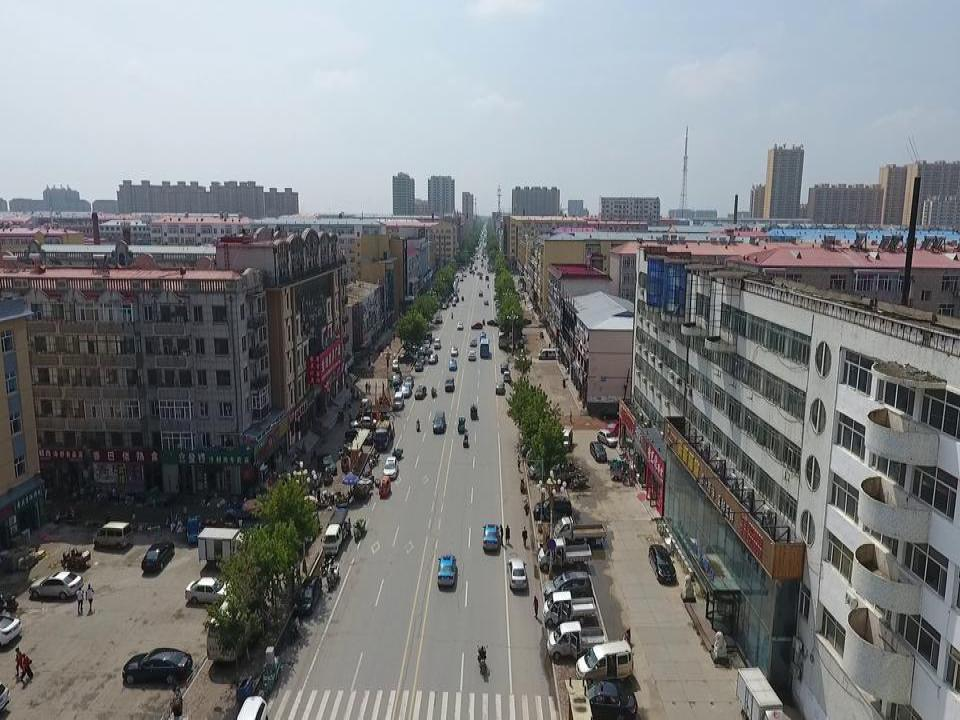car: (123, 648, 192, 683), (578, 681, 638, 720), (538, 569, 593, 599), (29, 570, 81, 594), (185, 577, 235, 600), (648, 544, 677, 583), (531, 494, 575, 519), (142, 540, 176, 571), (296, 576, 320, 616), (508, 557, 528, 590), (0, 613, 21, 643), (344, 427, 375, 445), (437, 555, 455, 585), (223, 503, 258, 518), (350, 415, 377, 430), (598, 428, 618, 448), (589, 440, 607, 461), (319, 453, 336, 475), (484, 523, 498, 549), (357, 408, 381, 420), (384, 457, 397, 479), (433, 411, 445, 430), (606, 419, 620, 433), (414, 384, 425, 400), (403, 373, 414, 388), (444, 376, 453, 392), (428, 350, 437, 366), (392, 372, 401, 387), (402, 383, 411, 397), (517, 318, 532, 326), (415, 352, 424, 365), (471, 320, 483, 329), (495, 382, 504, 394), (502, 371, 512, 381), (450, 345, 459, 356), (492, 307, 503, 316), (449, 360, 457, 371), (414, 360, 422, 371), (420, 345, 428, 356), (469, 337, 477, 347), (467, 351, 475, 361), (501, 363, 509, 372), (421, 340, 429, 349), (487, 319, 498, 325), (456, 320, 463, 329), (436, 314, 442, 322), (494, 299, 502, 305), (478, 291, 483, 296), (451, 300, 456, 305), (484, 299, 488, 305)
truck: (737, 665, 783, 720), (547, 620, 606, 653), (534, 539, 593, 568), (550, 517, 605, 544), (542, 592, 596, 619), (322, 508, 345, 553), (524, 456, 561, 477), (375, 418, 393, 450), (548, 464, 581, 480), (390, 448, 405, 461)
van: (206, 586, 265, 659), (197, 523, 249, 565), (574, 640, 633, 677), (93, 520, 132, 549), (235, 696, 268, 719), (560, 427, 573, 448), (537, 348, 557, 360), (498, 331, 508, 348), (393, 392, 403, 409), (392, 358, 400, 370), (433, 339, 440, 348)
